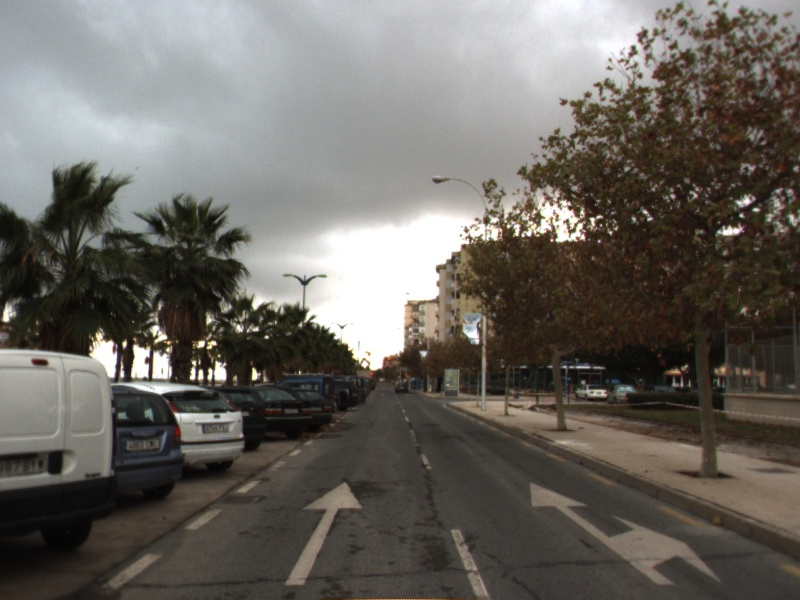STRAIGHT: (283, 480, 365, 587)
STRAIGHT_RIGHT: (529, 481, 724, 586)
